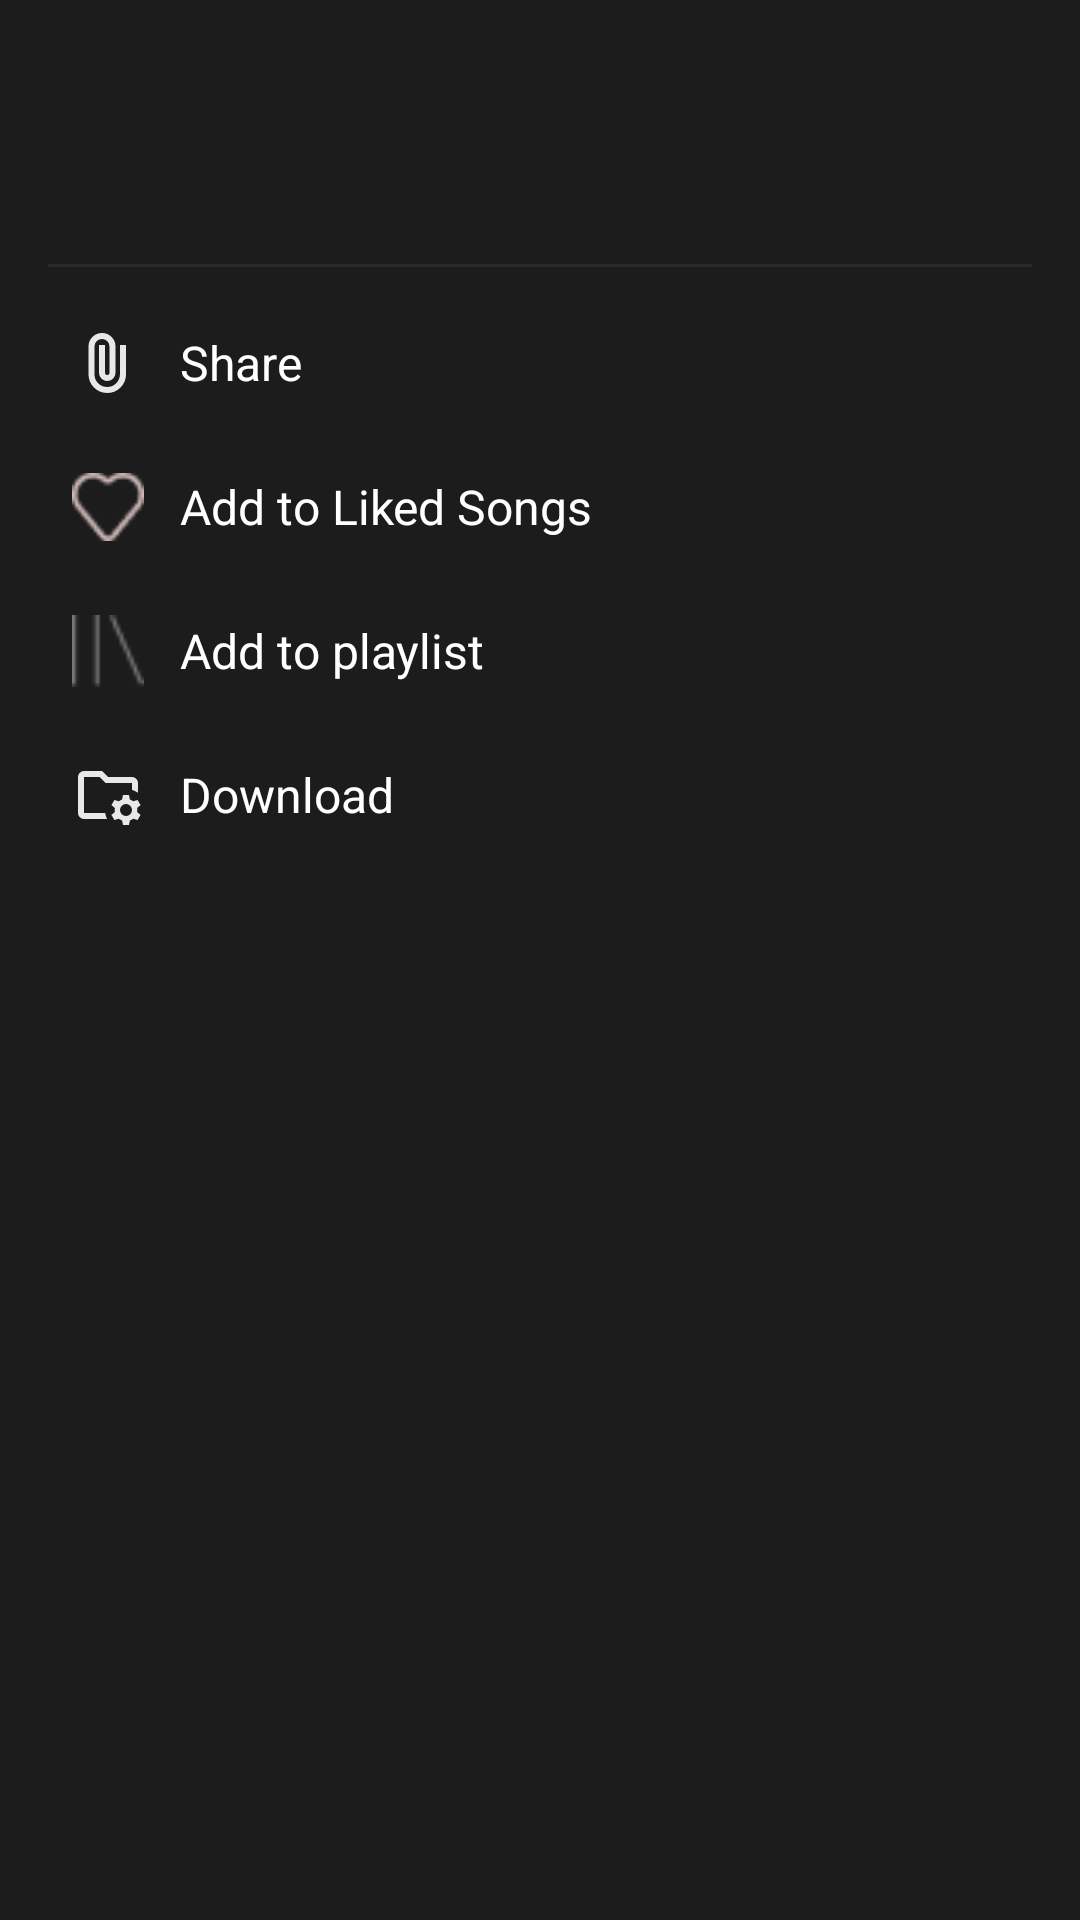

Locate icon controls on the screen. Image size 1080w x 1920h, boxes as (x1, y1, x2, y2).
attach file: (88, 333, 126, 393)
manage: (78, 771, 141, 825)
